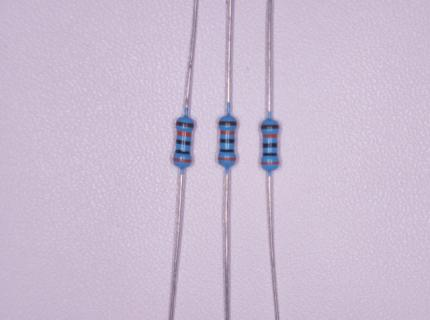Black band: (175, 150, 190, 155), (176, 140, 190, 145), (220, 139, 234, 143), (263, 144, 277, 148), (220, 149, 234, 152), (263, 153, 277, 156)
Brown band: (176, 122, 194, 127), (262, 125, 279, 129), (219, 122, 237, 125)
Orange band: (177, 131, 191, 137), (174, 158, 191, 162), (219, 157, 236, 161), (262, 161, 279, 165), (264, 134, 278, 138), (220, 131, 234, 134)
